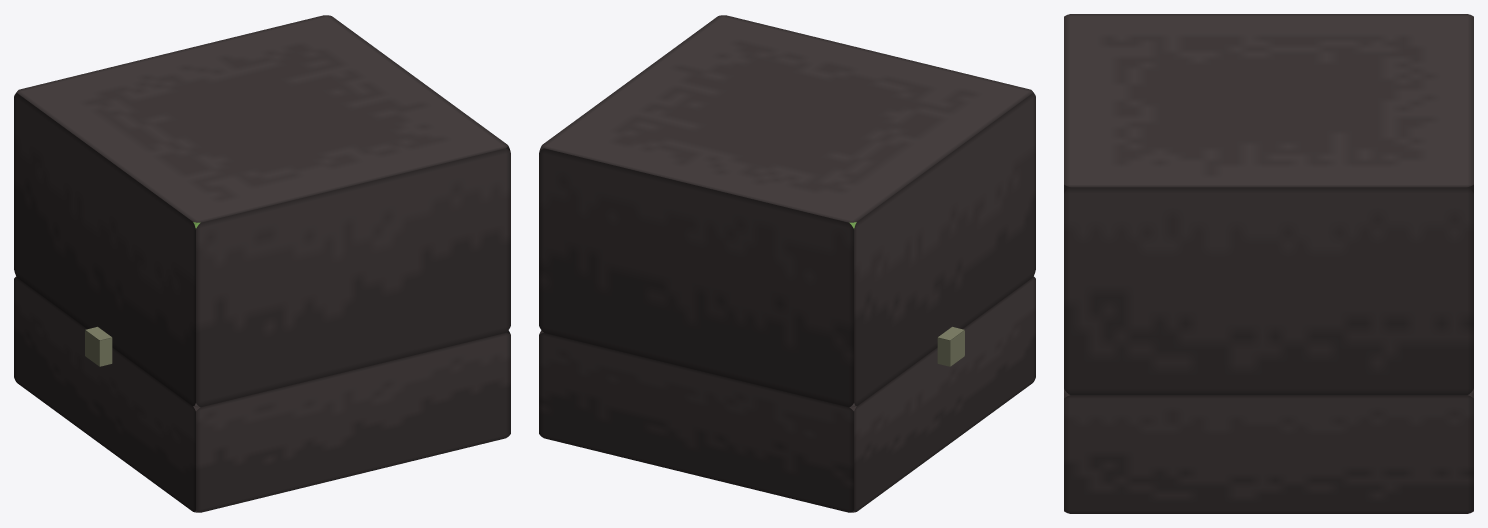
The model's file is ButtonGreen.fbx.
3 views of the same model, side by side, from view 1: azimuth 30°, elevation 25°; view 2: azimuth 150°, elevation 25°; view 3: azimuth 270°, elevation 25° (orthographic). The views are drawn at different scales.
Parts seen in each view (by area): view 1: Lid, Body, ButtonAll2; view 2: Lid, Body, ButtonAll2; view 3: Lid, Body.
Part boxes in pixels (left/top/right/bottom): Lid: left=14, top=15, right=510, bottom=407; Body: left=14, top=276, right=510, bottom=512; ButtonAll2: left=85, top=326, right=112, bottom=366; Lid: left=539, top=15, right=1035, bottom=407; Body: left=539, top=276, right=1035, bottom=512; ButtonAll2: left=937, top=326, right=964, bottom=366; Lid: left=1064, top=14, right=1473, bottom=394; Body: left=1064, top=389, right=1473, bottom=513.
Size of the model in its own units: 162 by 138 by 156.
1 material, 1 textured.
